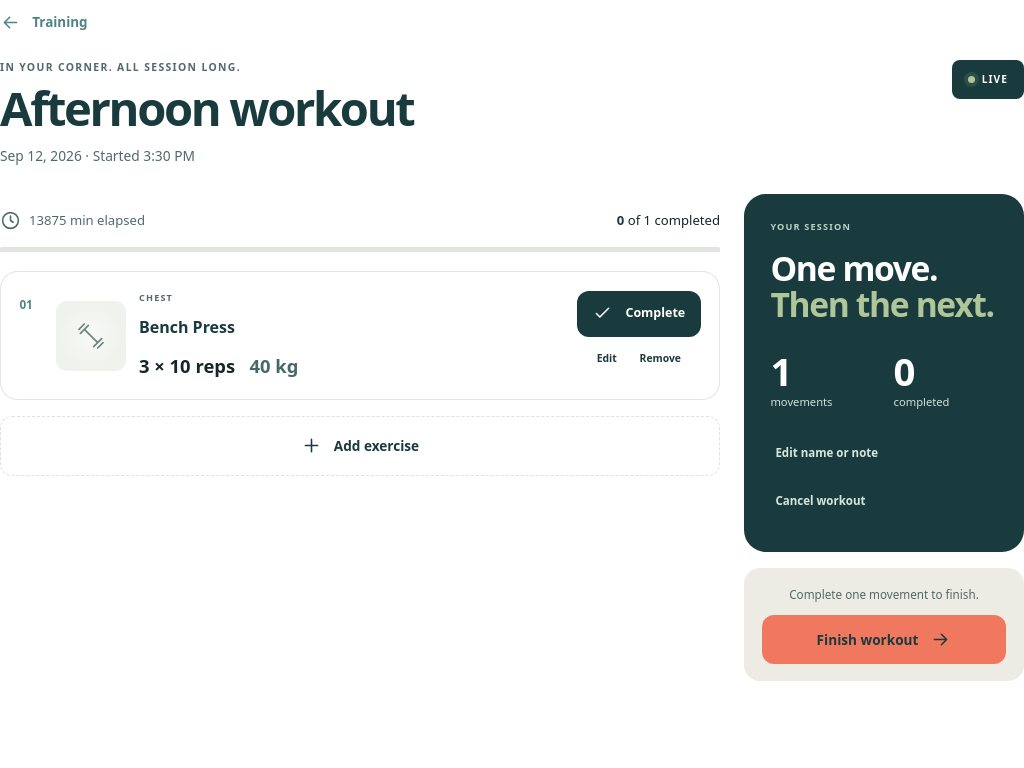
Training lifecycle › blocks finishing when no movement is completed
Click the button "Finish workout".
click(884, 640)  # box x1=762 y1=615 x2=1006 y2=664
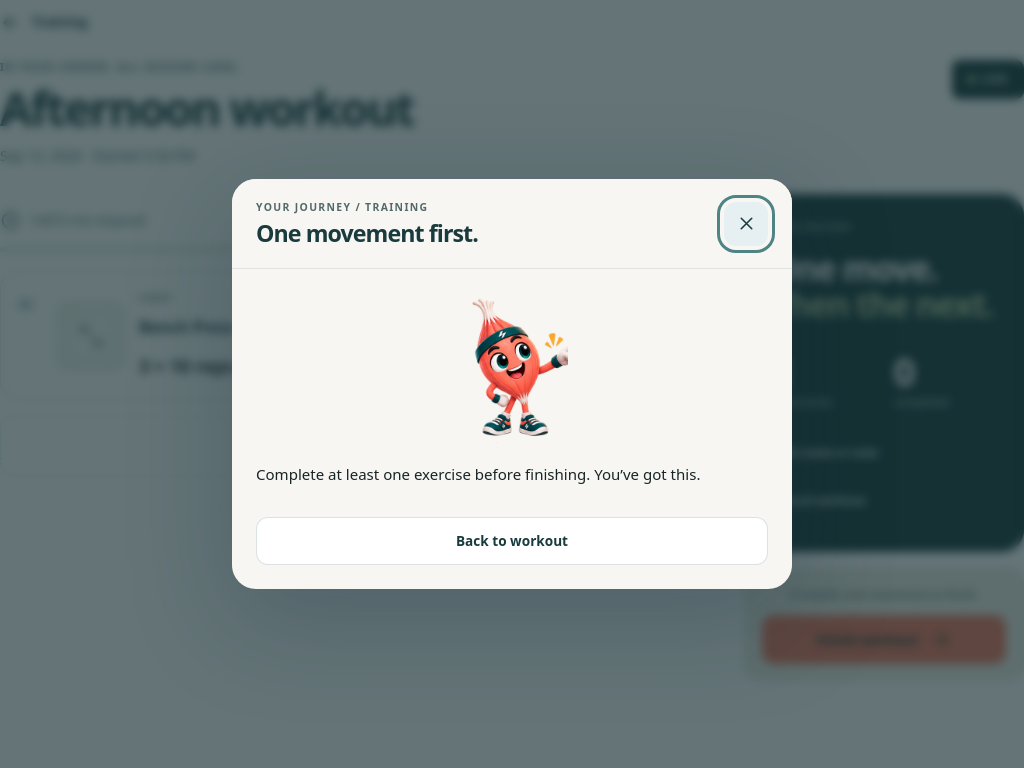
Check: the heading "One movement first." is shown, box x1=256 y1=220 x2=478 y2=247
